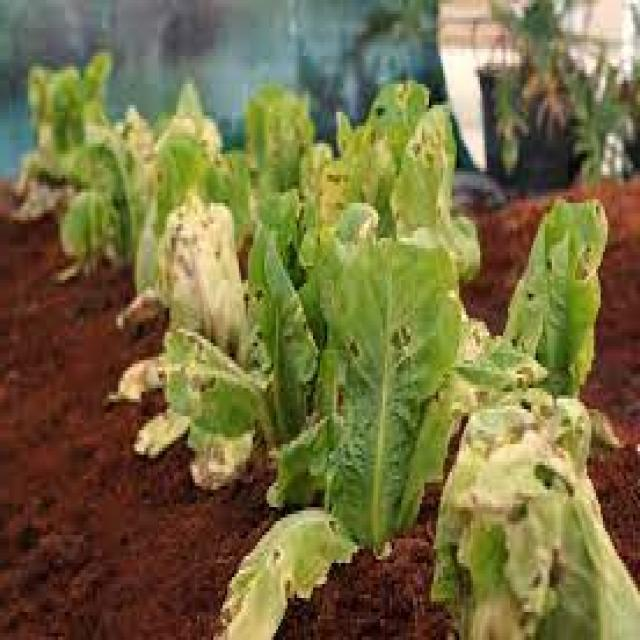Septoria_Blight: (261, 138, 443, 474), (469, 415, 583, 639)
